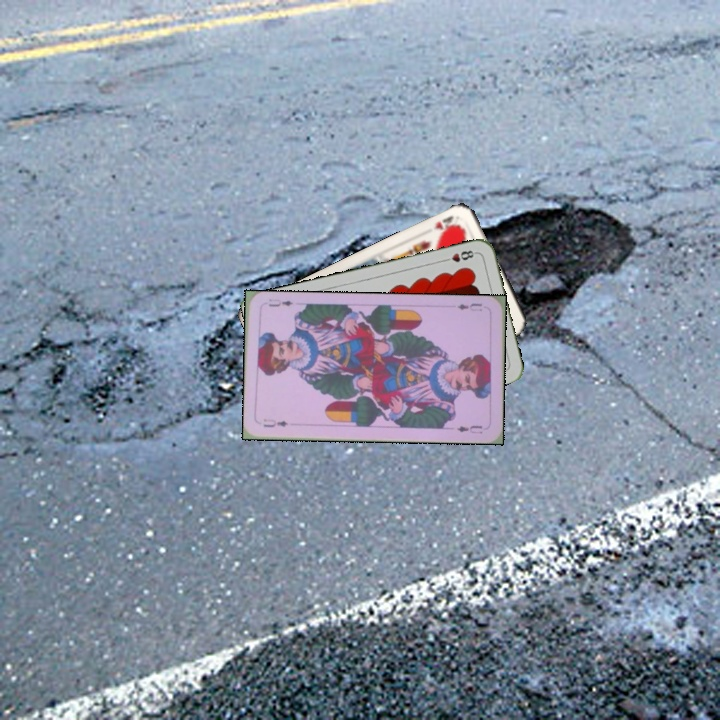EU: (259, 415, 290, 430), (453, 299, 485, 313)
H8: (439, 246, 479, 265)
HK: (429, 212, 462, 236)
